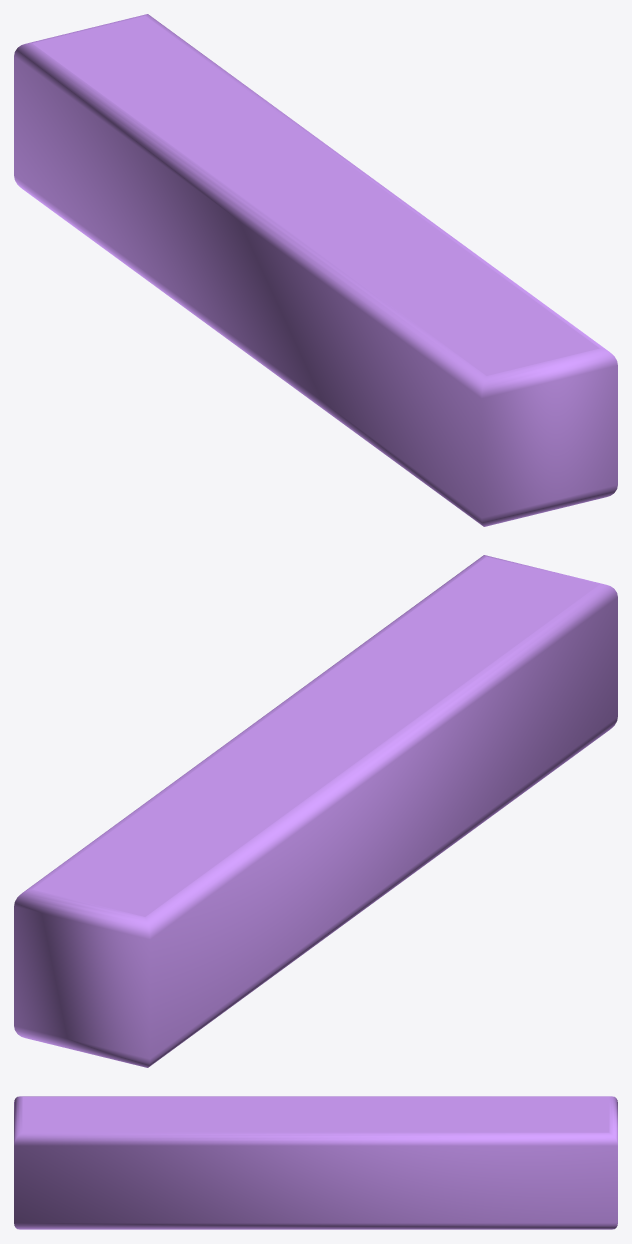
File: ToyObject_134.fbx
3 views of the same model, one above another, from view 1: azimuth 30°, elevation 25°; view 2: azimuth 150°, elevation 25°; view 3: azimuth 270°, elevation 25° (orthographic). The views are drawn at different scales.
Parts seen in each view (by area): view 1: Object.045; view 2: Object.045; view 3: Object.045.
Boxes of the visible parts, x1,y1,x2,y2 form: Object.045: [14, 14, 617, 526]; Object.045: [14, 555, 617, 1067]; Object.045: [14, 1096, 617, 1229].
Size of the model in its own units: 0.0288 by 0.0301 by 0.171.
